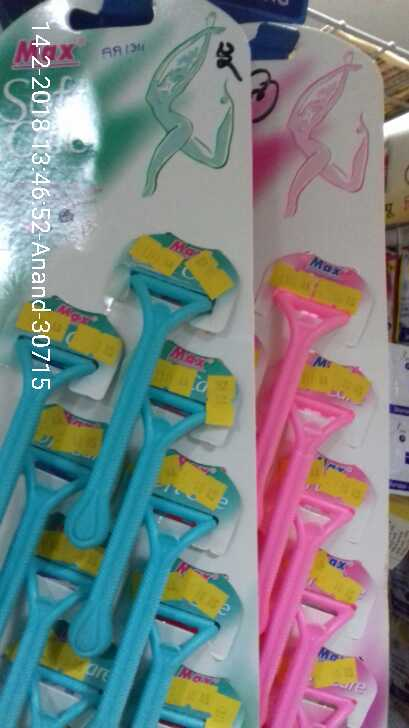reject: (138, 197, 276, 345)
